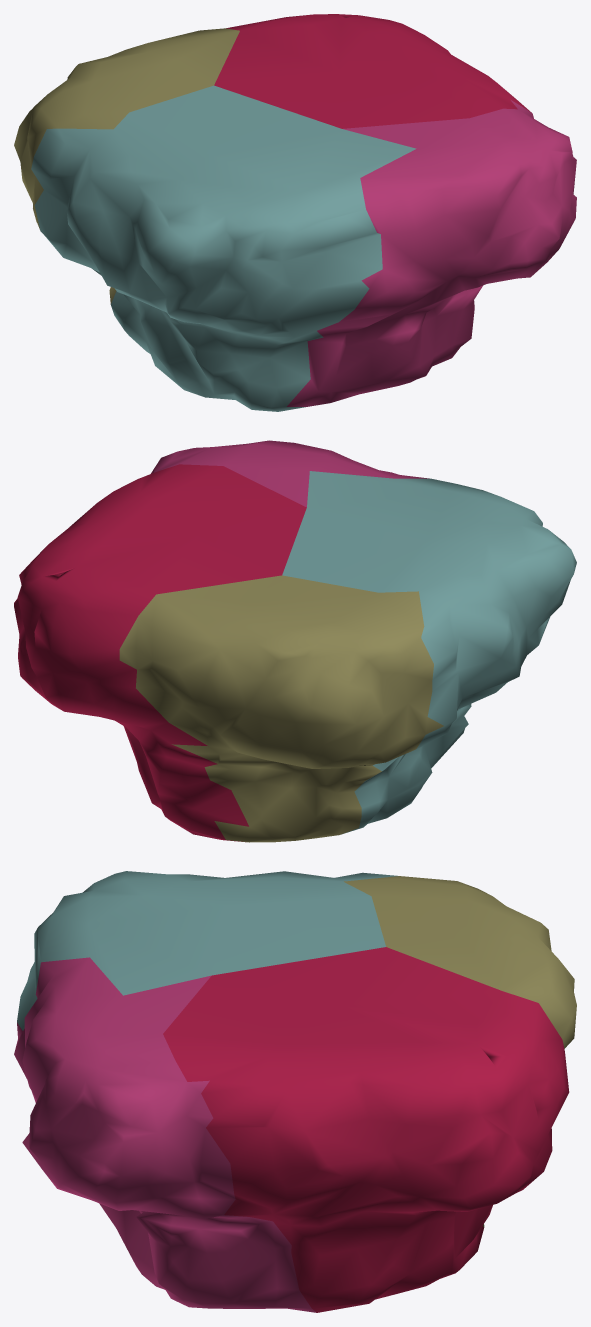
The model's file is island_03.fbx.
3 views of the same model, one above another, from view 1: azimuth 30°, elevation 25°; view 2: azimuth 150°, elevation 25°; view 3: azimuth 270°, elevation 25° (orthographic). The views are drawn at different scales.
Parts seen in each view (by area): view 1: attribwrangle4; view 2: attribwrangle4; view 3: attribwrangle4.
Boxes of the visible parts, x1,y1,x2,y2 form: attribwrangle4: [14, 14, 576, 411]; attribwrangle4: [14, 440, 576, 842]; attribwrangle4: [14, 871, 576, 1312].
Size of the model in its own units: 8.89 by 4.96 by 8.61.
